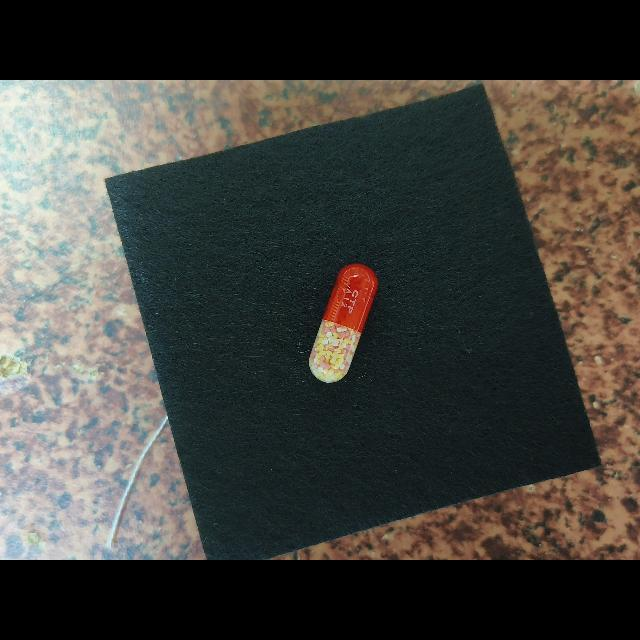Intact Capsule: (309, 264, 378, 383)
